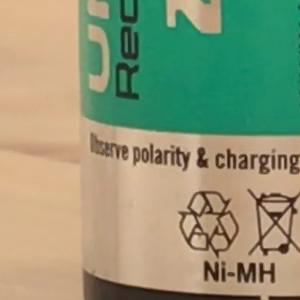keyword: (194, 253, 285, 292)
